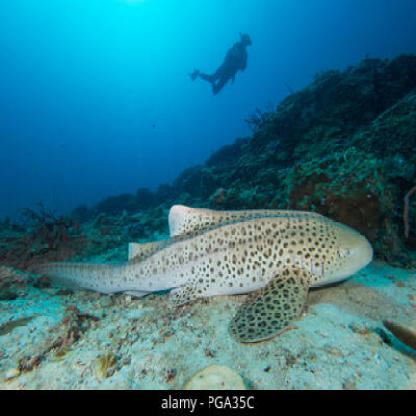zebra_shark: (15, 176, 378, 348)
